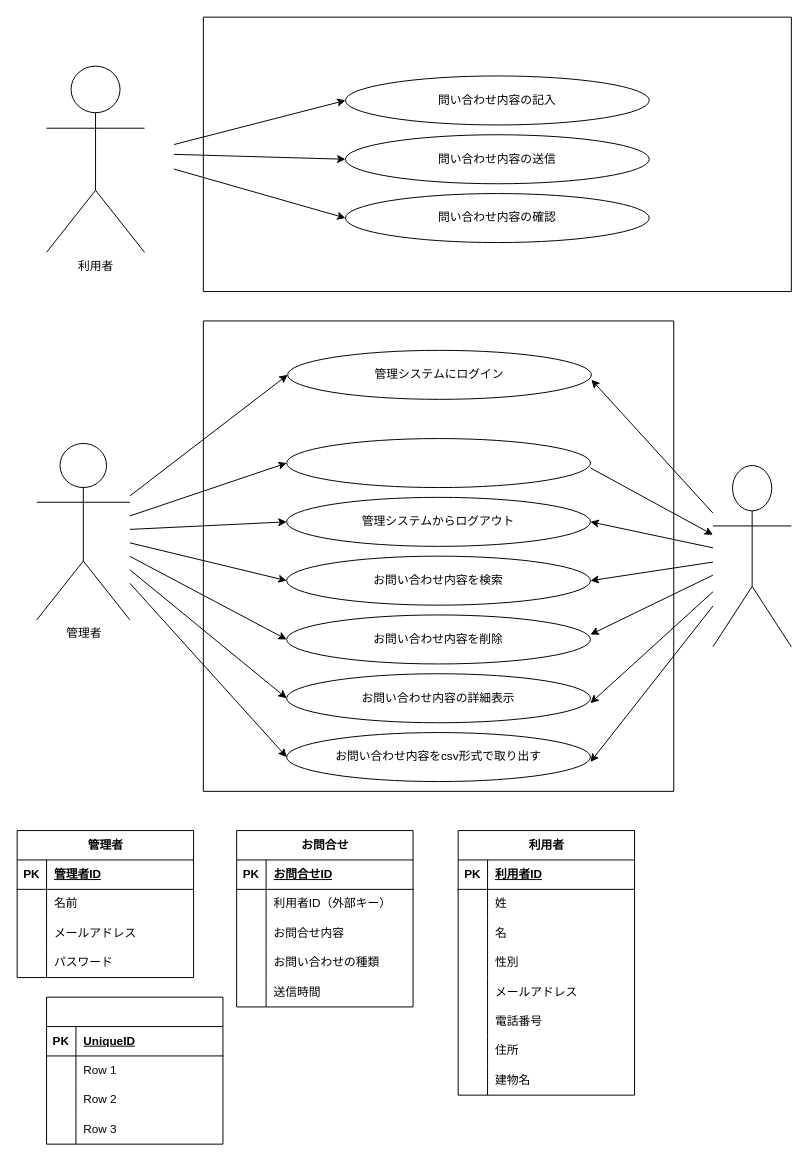
This 809x1161 diagram has some shape labels left out. The box of each missing label's shape, as (x1, y1, x2, y2) in pixels:
Table: (46, 996, 223, 1144)
問い合わせ管理システム: (202, 320, 674, 791)
問い合わせ送信システム: (202, 16, 791, 292)
新規ユーザーの作成・登録: (286, 438, 590, 488)
新規管理者: (712, 465, 791, 647)
